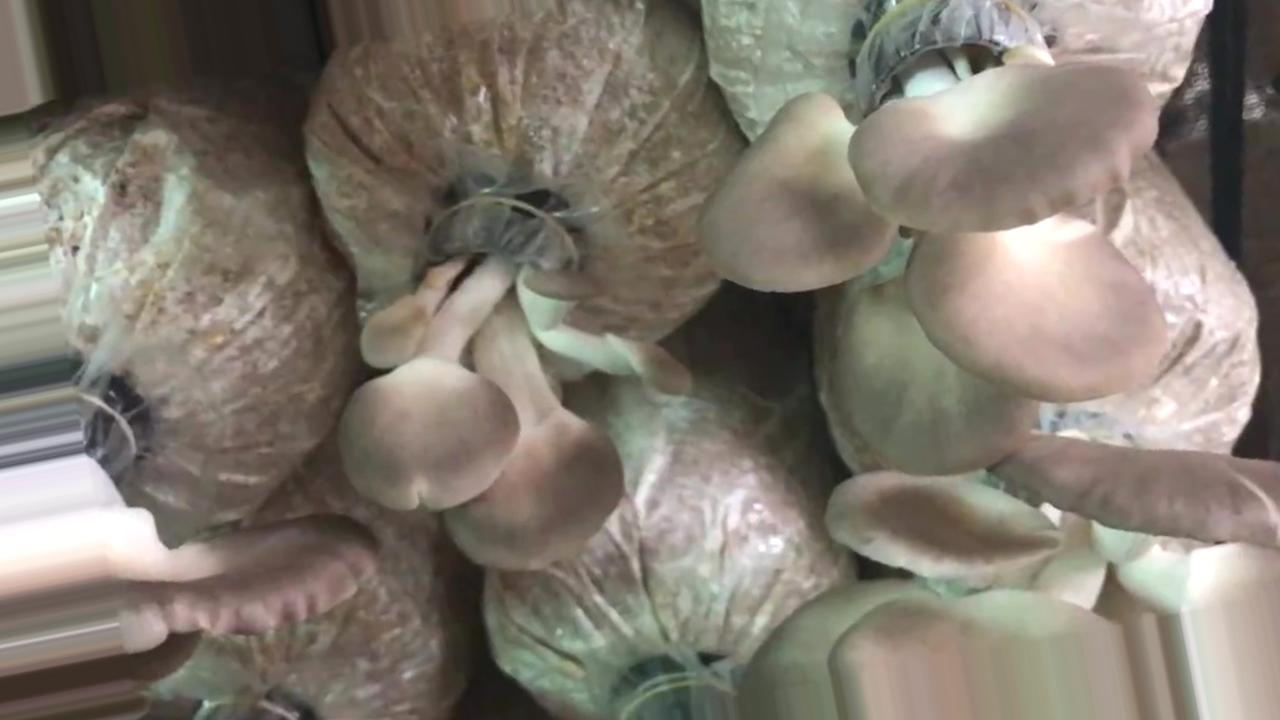nam: (699, 1, 1167, 474), (742, 439, 1280, 720), (339, 196, 686, 571), (1, 384, 375, 677)
